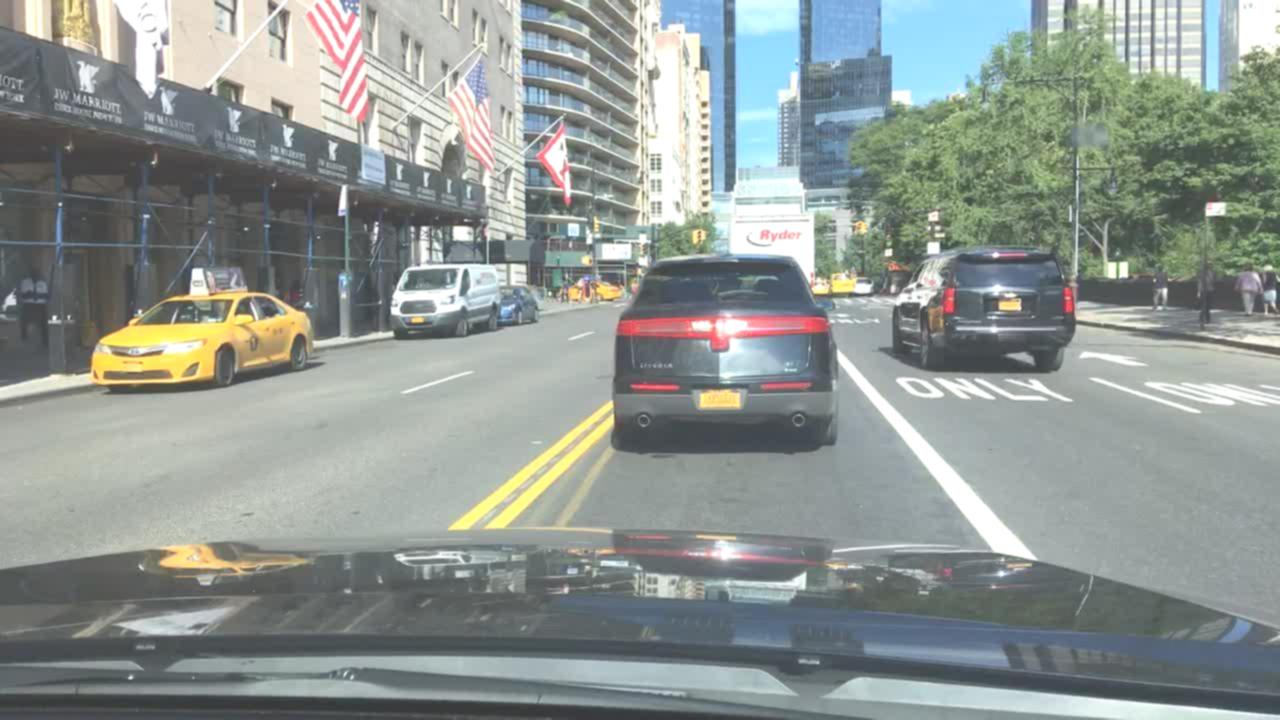chevrolet: (999, 290, 1023, 300)
lincoln: (712, 318, 727, 343)
